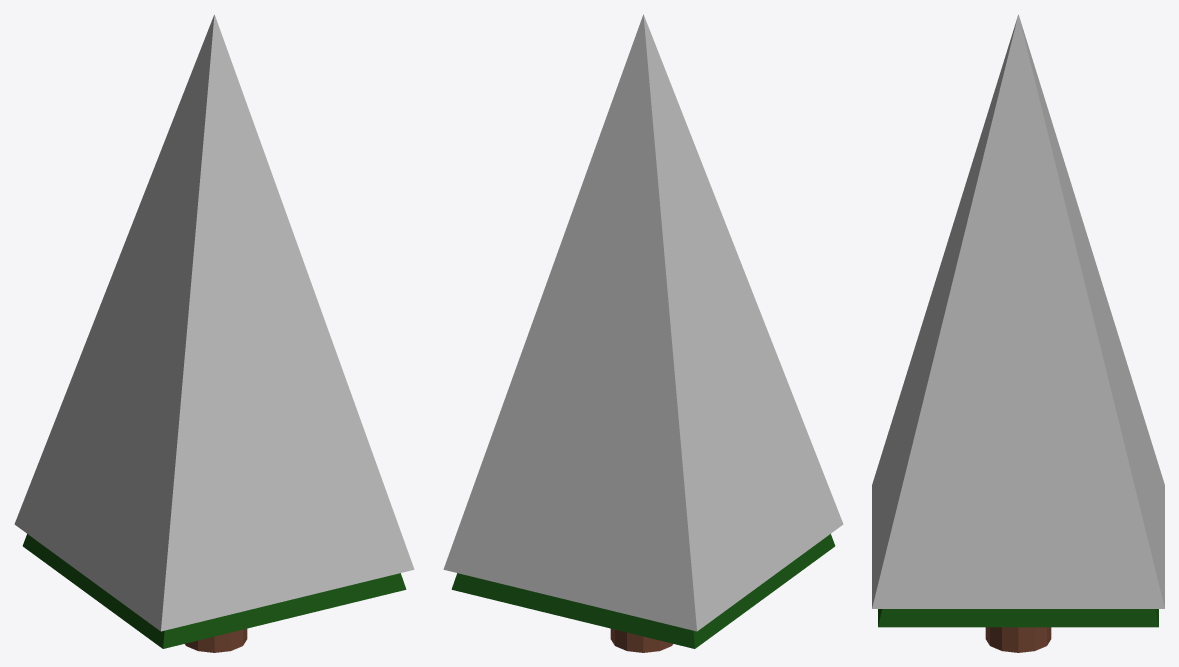
The model's file is Tree_36_winter_vc.fbx.
3 views of the same model, side by side, from view 1: azimuth 30°, elevation 25°; view 2: azimuth 150°, elevation 25°; view 3: azimuth 270°, elevation 25° (orthographic).
Visible parts, largest first — view 1: Tree_36_winter_vc; view 2: Tree_36_winter_vc; view 3: Tree_36_winter_vc.
Part boxes in pixels (bbox=[...]): Tree_36_winter_vc: bbox=[14, 14, 414, 652]; Tree_36_winter_vc: bbox=[443, 14, 843, 652]; Tree_36_winter_vc: bbox=[872, 14, 1164, 652].
Bounding box in the file's own units: 71.97 × 169 × 71.97.
